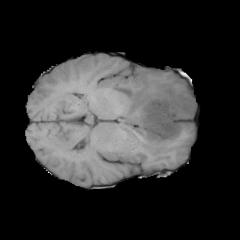glioma: (112, 68, 194, 155)
